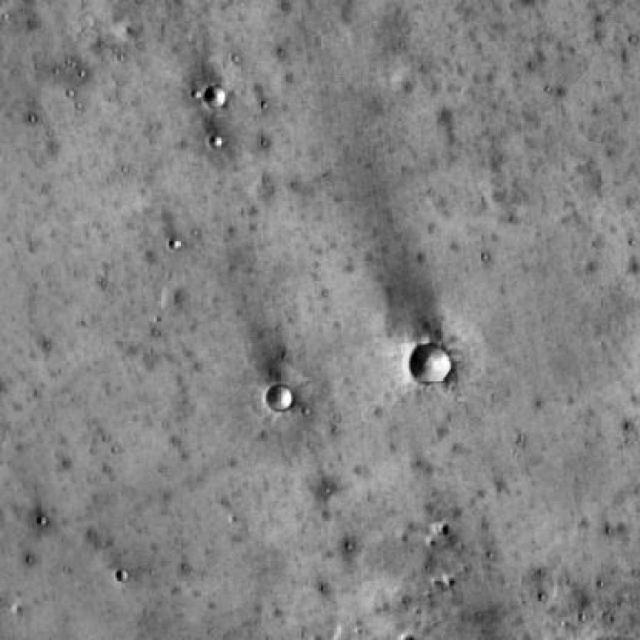crater: (412, 344, 451, 381), (265, 386, 292, 412), (206, 86, 228, 108)
